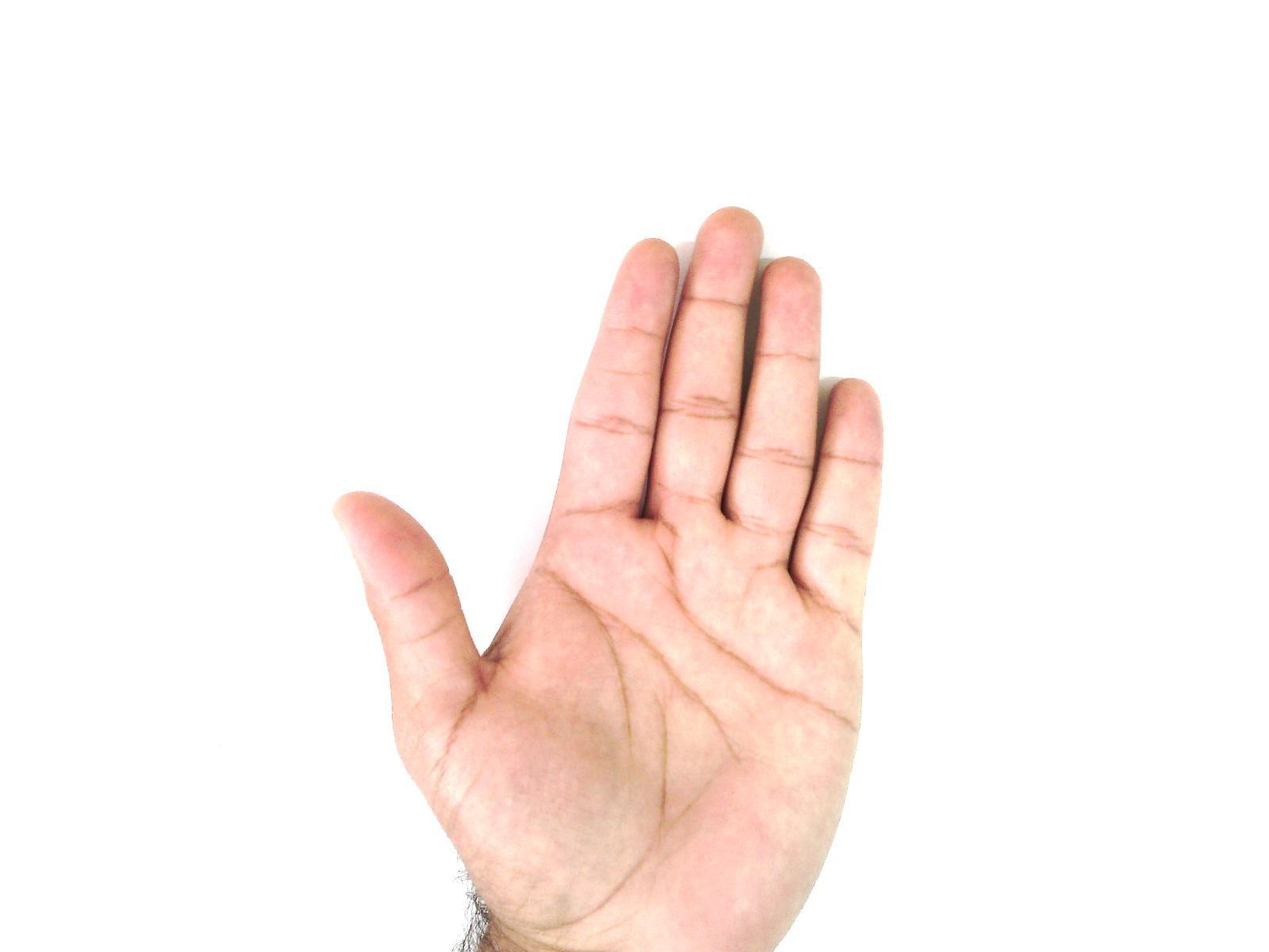open_palm: (332, 205, 888, 951)
